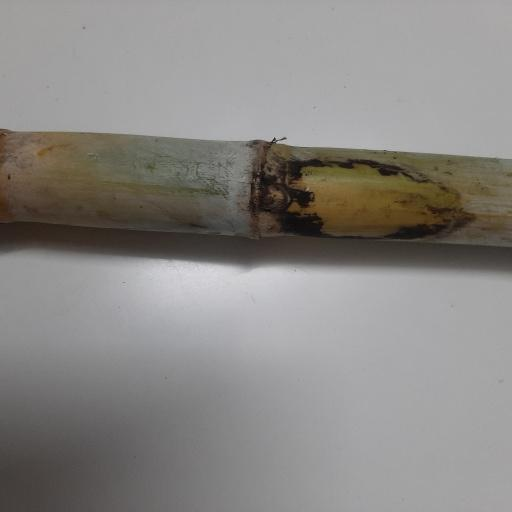Bud: (258, 184, 291, 212)
